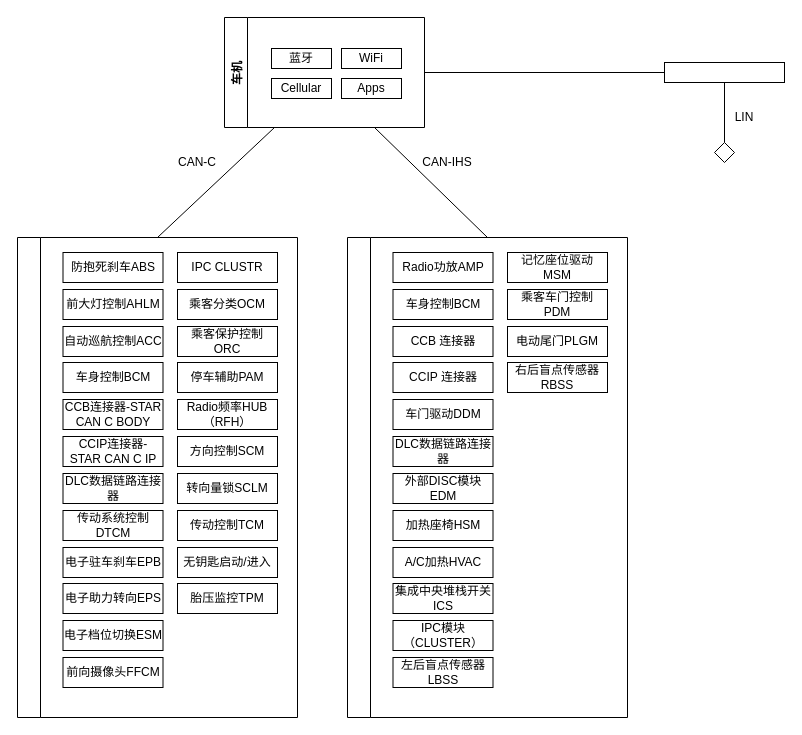
Image size: 802x735. Some labels were removed from this diagram. The box of each missing label's shape, as (x1, y1, x2, y2) in pixels:
BCM: (664, 62, 784, 82)
CAN-C总线网络: (16, 236, 298, 718)
CAN-IHS总线网络: (346, 236, 628, 718)
